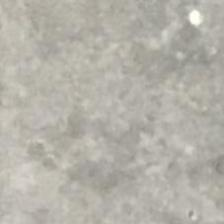Non_Crack: (32, 26, 196, 186)
